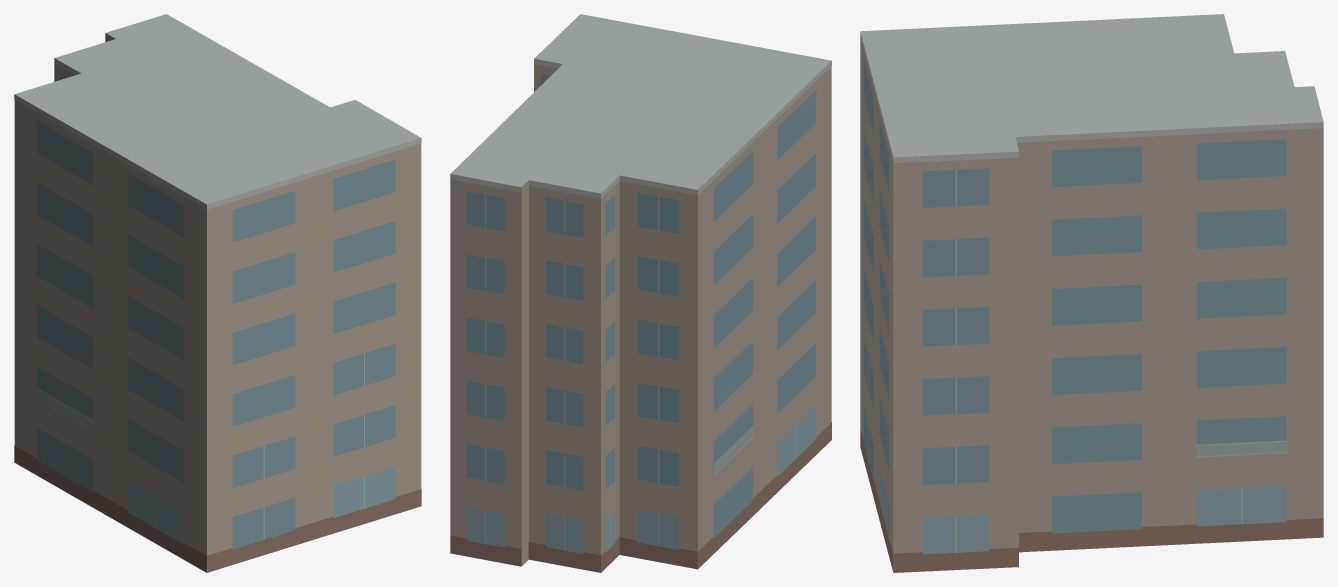
File: survey-upis-32527980.glb
3 views of the same model, side by side, from view 1: azimuth 30°, elevation 25°; view 2: azimuth 150°, elevation 25°; view 3: azimuth 270°, elevation 25° (orthographic). The views are drawn at different scales.
Parts seen in each view (by area): view 1: survey-upis-32527980.tmp; view 2: survey-upis-32527980.tmp; view 3: survey-upis-32527980.tmp.
Part boxes in pixels (bbox=[...]): survey-upis-32527980.tmp: bbox=[14, 14, 421, 572]; survey-upis-32527980.tmp: bbox=[450, 14, 831, 572]; survey-upis-32527980.tmp: bbox=[860, 14, 1323, 572].
Bounding box in the file's own units: 12.67 × 17.1 × 17.29.
